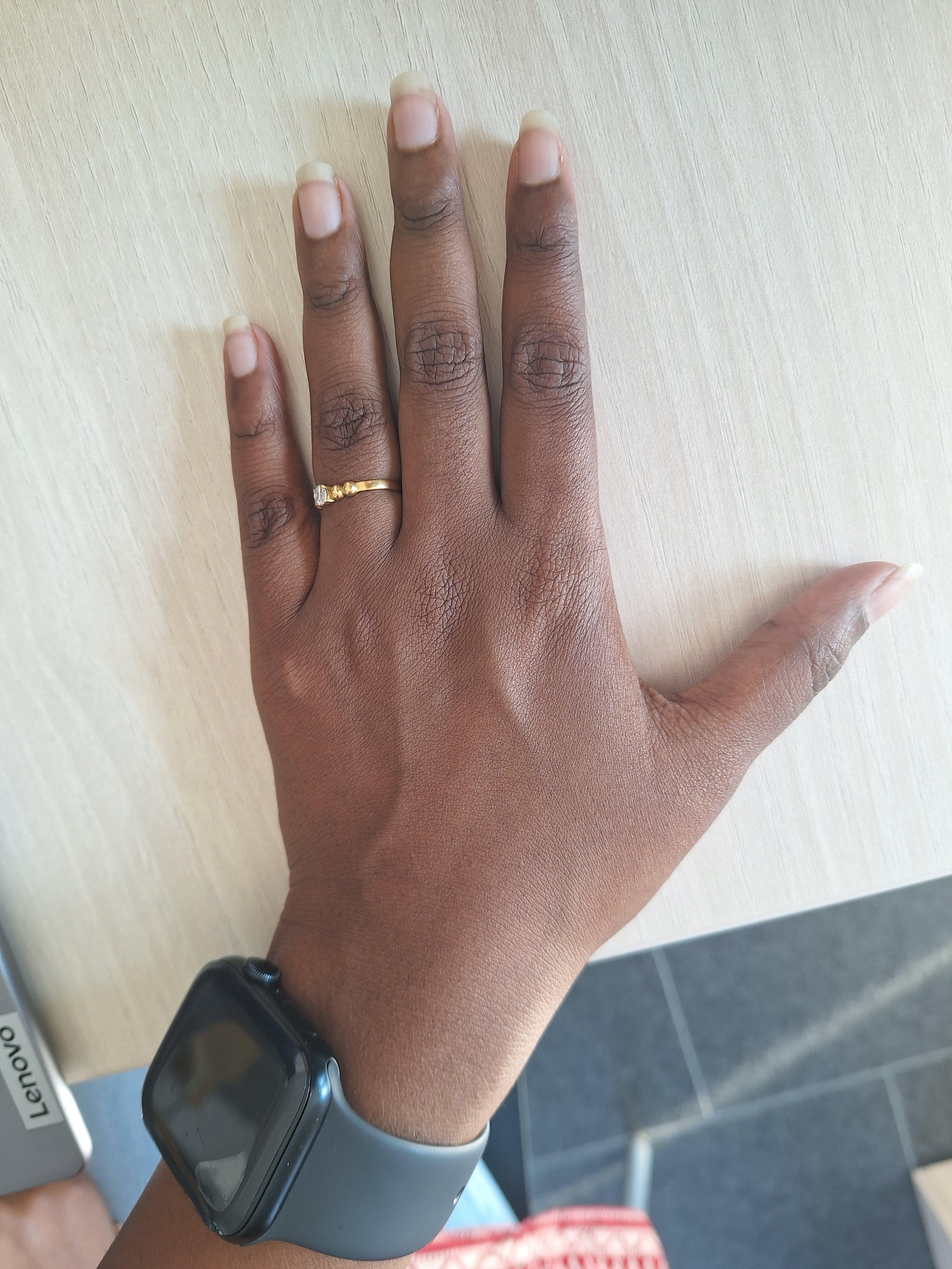Fingernail: (390, 71, 438, 151), (295, 163, 342, 240), (867, 564, 922, 626), (519, 110, 563, 185), (223, 317, 258, 378)
